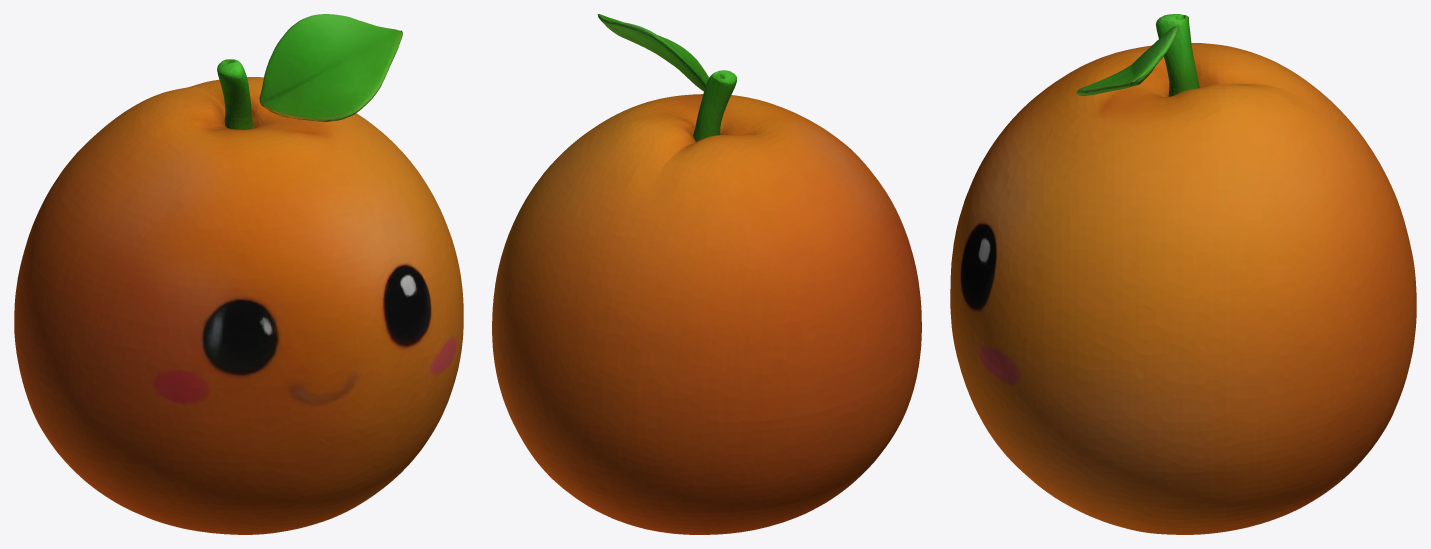
The model's file is orange.glb.
The picture shows the model from 3 angles, left to right: view 1: azimuth 30°, elevation 25°; view 2: azimuth 150°, elevation 25°; view 3: azimuth 270°, elevation 25°; orthographic projection. The views are drawn at different scales.
Parts seen in each view (by area): view 1: geometry_0; view 2: geometry_0; view 3: geometry_0.
Boxes of the visible parts, <box> form: geometry_0: <box>14,14,463,534</box>; geometry_0: <box>492,14,921,534</box>; geometry_0: <box>950,14,1416,534</box>.
Size of the model in its own units: 0.8566 by 0.996 by 0.8344.
Materials: 1 (1 with a texture image).
